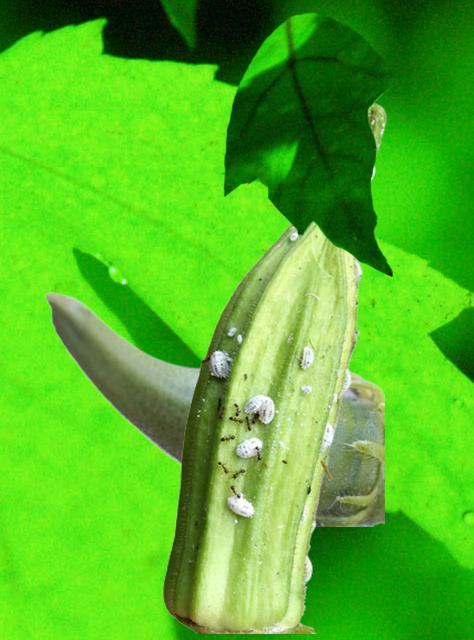okra: (163, 103, 386, 632), (44, 291, 383, 525)
